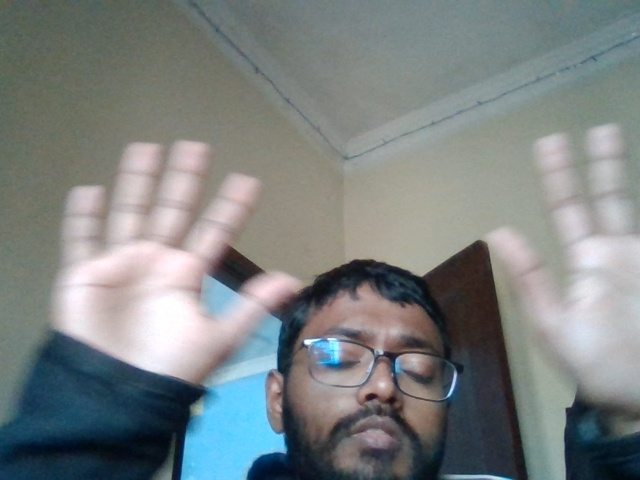Hello: (19, 109, 304, 429), (468, 119, 640, 415)
